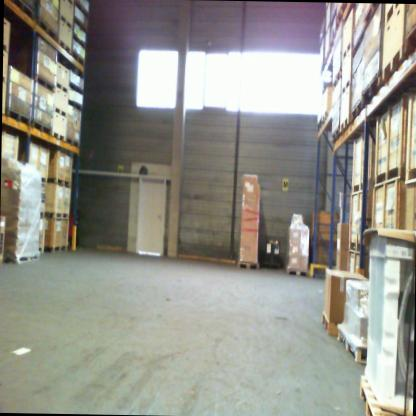pallet: (355, 373, 413, 416), (379, 46, 416, 92), (334, 324, 371, 365), (347, 182, 363, 255), (359, 70, 382, 112), (7, 0, 36, 22), (373, 164, 400, 187), (37, 17, 58, 45), (383, 3, 404, 30), (321, 309, 341, 334), (5, 107, 31, 126), (32, 74, 56, 93), (350, 99, 367, 124), (284, 264, 309, 280), (31, 118, 53, 136), (337, 113, 353, 136), (3, 254, 39, 264), (341, 37, 353, 64), (67, 80, 84, 97), (238, 259, 262, 271), (403, 166, 416, 187), (331, 68, 341, 95), (70, 48, 85, 66), (72, 31, 86, 50), (48, 177, 72, 188), (57, 39, 72, 56), (58, 12, 73, 29), (341, 74, 352, 95), (65, 134, 79, 150), (73, 15, 86, 32), (45, 242, 67, 252), (45, 210, 69, 219), (54, 79, 68, 94), (67, 99, 83, 112), (331, 126, 342, 144), (52, 105, 67, 118), (51, 128, 65, 141), (38, 174, 50, 184), (60, 0, 75, 5), (39, 209, 46, 219), (3, 42, 8, 55), (38, 247, 46, 254), (3, 73, 8, 83)
